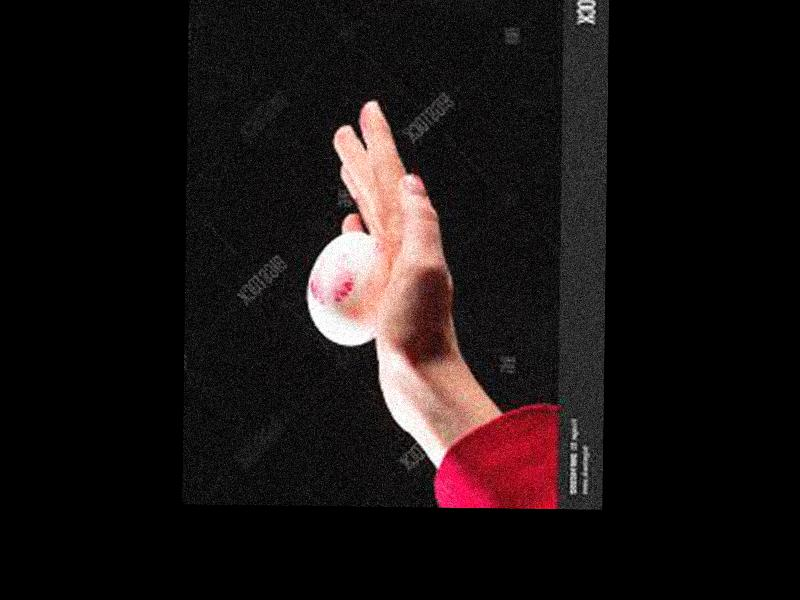Eggs: (305, 234, 383, 347)
